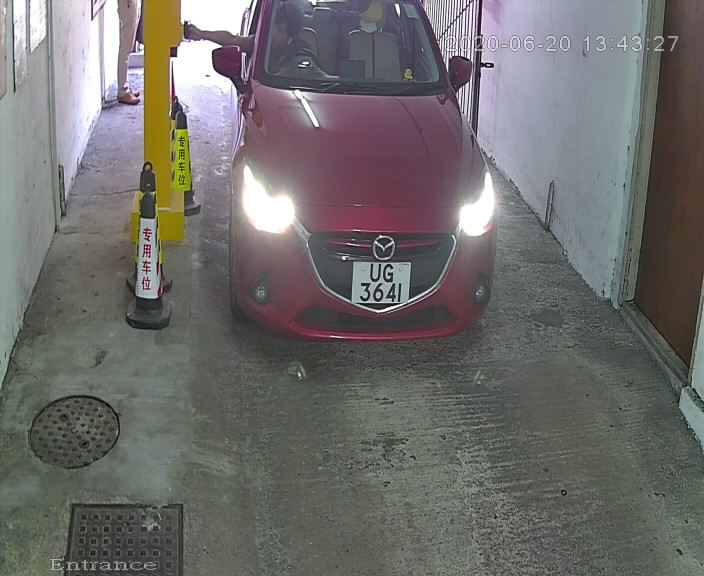privatecar: (211, 3, 505, 371)
